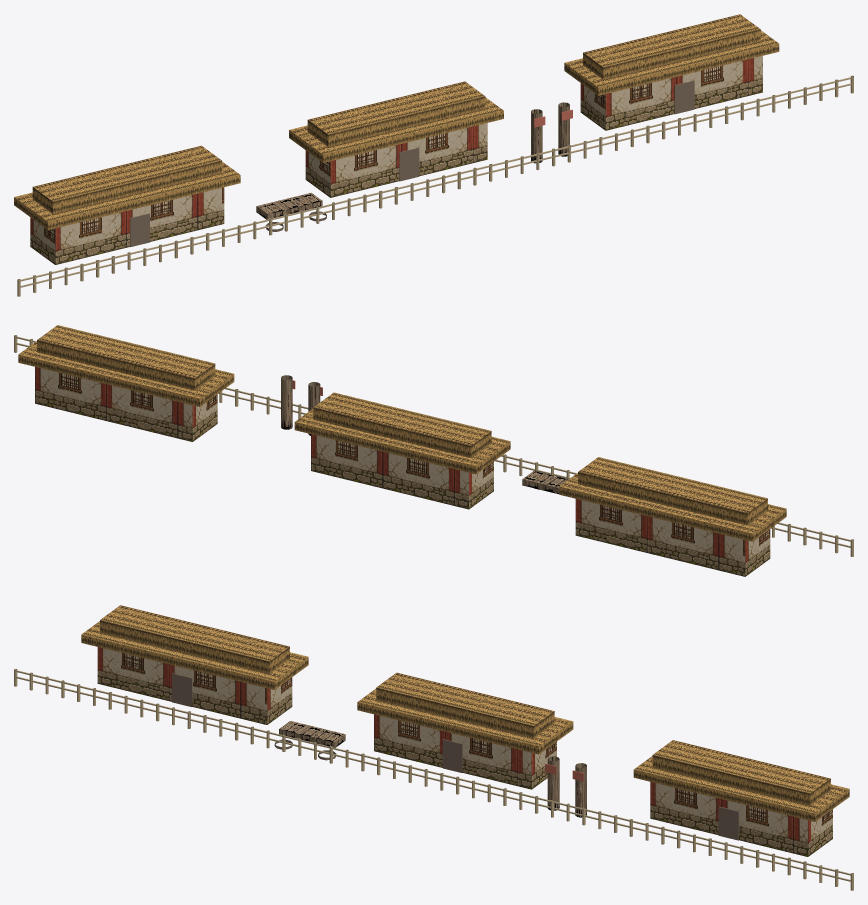
Rendered from st_village.glb.
3 views of the same model, one above another, from view 1: azimuth 30°, elevation 25°; view 2: azimuth 150°, elevation 25°; view 3: azimuth 330°, elevation 25° (orthographic).
Parts seen in each view (by area): view 1: thatch, mud, fence, wood, dark; view 2: thatch, mud, fence, wood; view 3: thatch, mud, fence, wood, dark.
Part boxes in pixels (<box>): thatch: <box>14,14,779,229</box>; mud: <box>30,56,762,264</box>; fence: <box>17,75,853,296</box>; wood: <box>256,102,569,219</box>; dark: <box>130,80,694,247</box>; thatch: <box>18,325,786,541</box>; mud: <box>35,367,770,576</box>; fence: <box>14,335,853,556</box>; wood: <box>281,375,568,494</box>; thatch: <box>81,605,849,821</box>; mud: <box>97,647,832,856</box>; fence: <box>14,669,853,890</box>; wood: <box>279,721,586,817</box>; dark: <box>172,673,738,840</box>.
Size of the model in its own units: 425 by 30 by 46.68.
6 materials, 3 textured.
